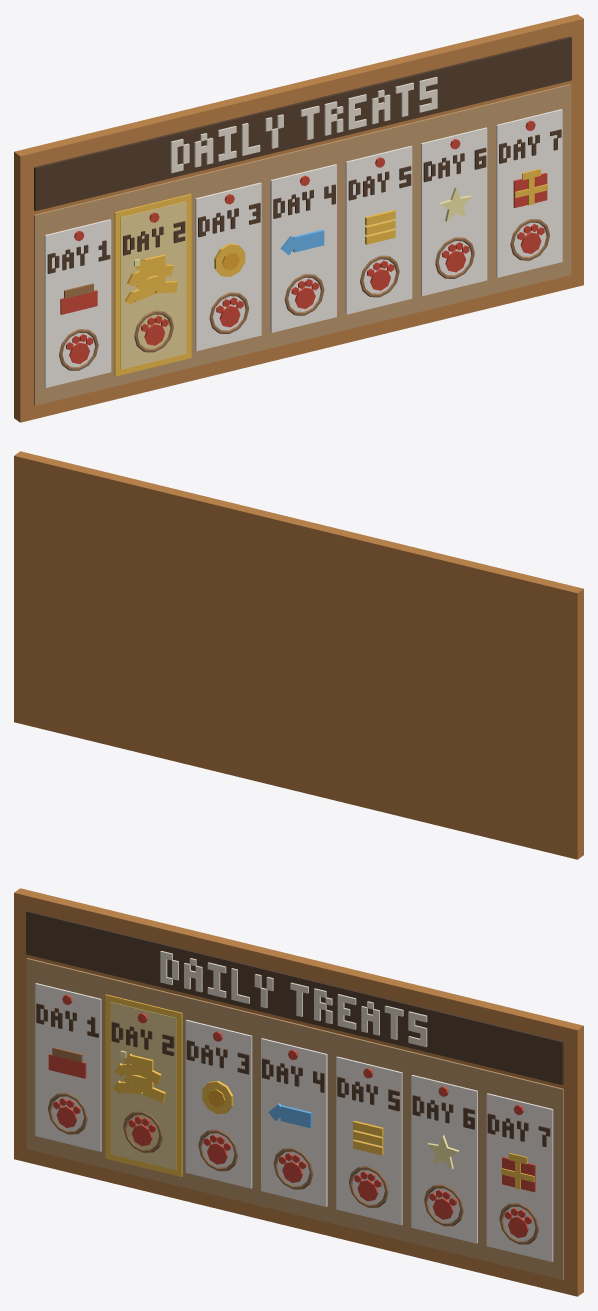
Rendered from CatCafe_Prop_TreatBoard.glb.
3 views of the same model, one above another, from view 1: azimuth 30°, elevation 25°; view 2: azimuth 150°, elevation 25°; view 3: azimuth 330°, elevation 25° (orthographic).
Visible parts, largest first — view 1: CatCafe_Prop_TreatBoard, CatCafe_Prop_TreatBoard_Glow, CatCafe_Prop_TreatBoard_Stamp3, CatCafe_Prop_TreatBoard_Stamp7, CatCafe_Prop_TreatBoard_Stamp1, CatCafe_Prop_TreatBoard_Stamp6, CatCafe_Prop_TreatBoard_Stamp4, CatCafe_Prop_TreatBoard_Stamp2, CatCafe_Prop_TreatBoard_Stamp5; view 2: CatCafe_Prop_TreatBoard; view 3: CatCafe_Prop_TreatBoard, CatCafe_Prop_TreatBoard_Glow, CatCafe_Prop_TreatBoard_Stamp1, CatCafe_Prop_TreatBoard_Stamp5, CatCafe_Prop_TreatBoard_Stamp2, CatCafe_Prop_TreatBoard_Stamp7, CatCafe_Prop_TreatBoard_Stamp4, CatCafe_Prop_TreatBoard_Stamp6, CatCafe_Prop_TreatBoard_Stamp3.
Part boxes in pixels (x1,y1,x2,y2): CatCafe_Prop_TreatBoard: (14,14,583,422); CatCafe_Prop_TreatBoard_Glow: (114,194,191,376); CatCafe_Prop_TreatBoard_Stamp3: (216,297,243,327); CatCafe_Prop_TreatBoard_Stamp7: (517,224,544,253); CatCafe_Prop_TreatBoard_Stamp1: (66,334,93,363); CatCafe_Prop_TreatBoard_Stamp6: (442,242,469,272); CatCafe_Prop_TreatBoard_Stamp4: (291,279,318,308); CatCafe_Prop_TreatBoard_Stamp2: (141,316,168,345); CatCafe_Prop_TreatBoard_Stamp5: (367,260,394,290); CatCafe_Prop_TreatBoard: (14,451,583,859); CatCafe_Prop_TreatBoard: (14,888,583,1296); CatCafe_Prop_TreatBoard_Glow: (105,994,182,1176); CatCafe_Prop_TreatBoard_Stamp1: (53,1098,80,1127); CatCafe_Prop_TreatBoard_Stamp5: (354,1171,381,1201); CatCafe_Prop_TreatBoard_Stamp2: (128,1116,155,1146); CatCafe_Prop_TreatBoard_Stamp7: (504,1208,531,1237); CatCafe_Prop_TreatBoard_Stamp4: (279,1153,306,1182); CatCafe_Prop_TreatBoard_Stamp6: (429,1190,456,1219); CatCafe_Prop_TreatBoard_Stamp3: (203,1134,230,1164).
Size of the model in its own units: 6.2 by 2.8 by 0.205.
Materials: 1 (1 with a texture image).
